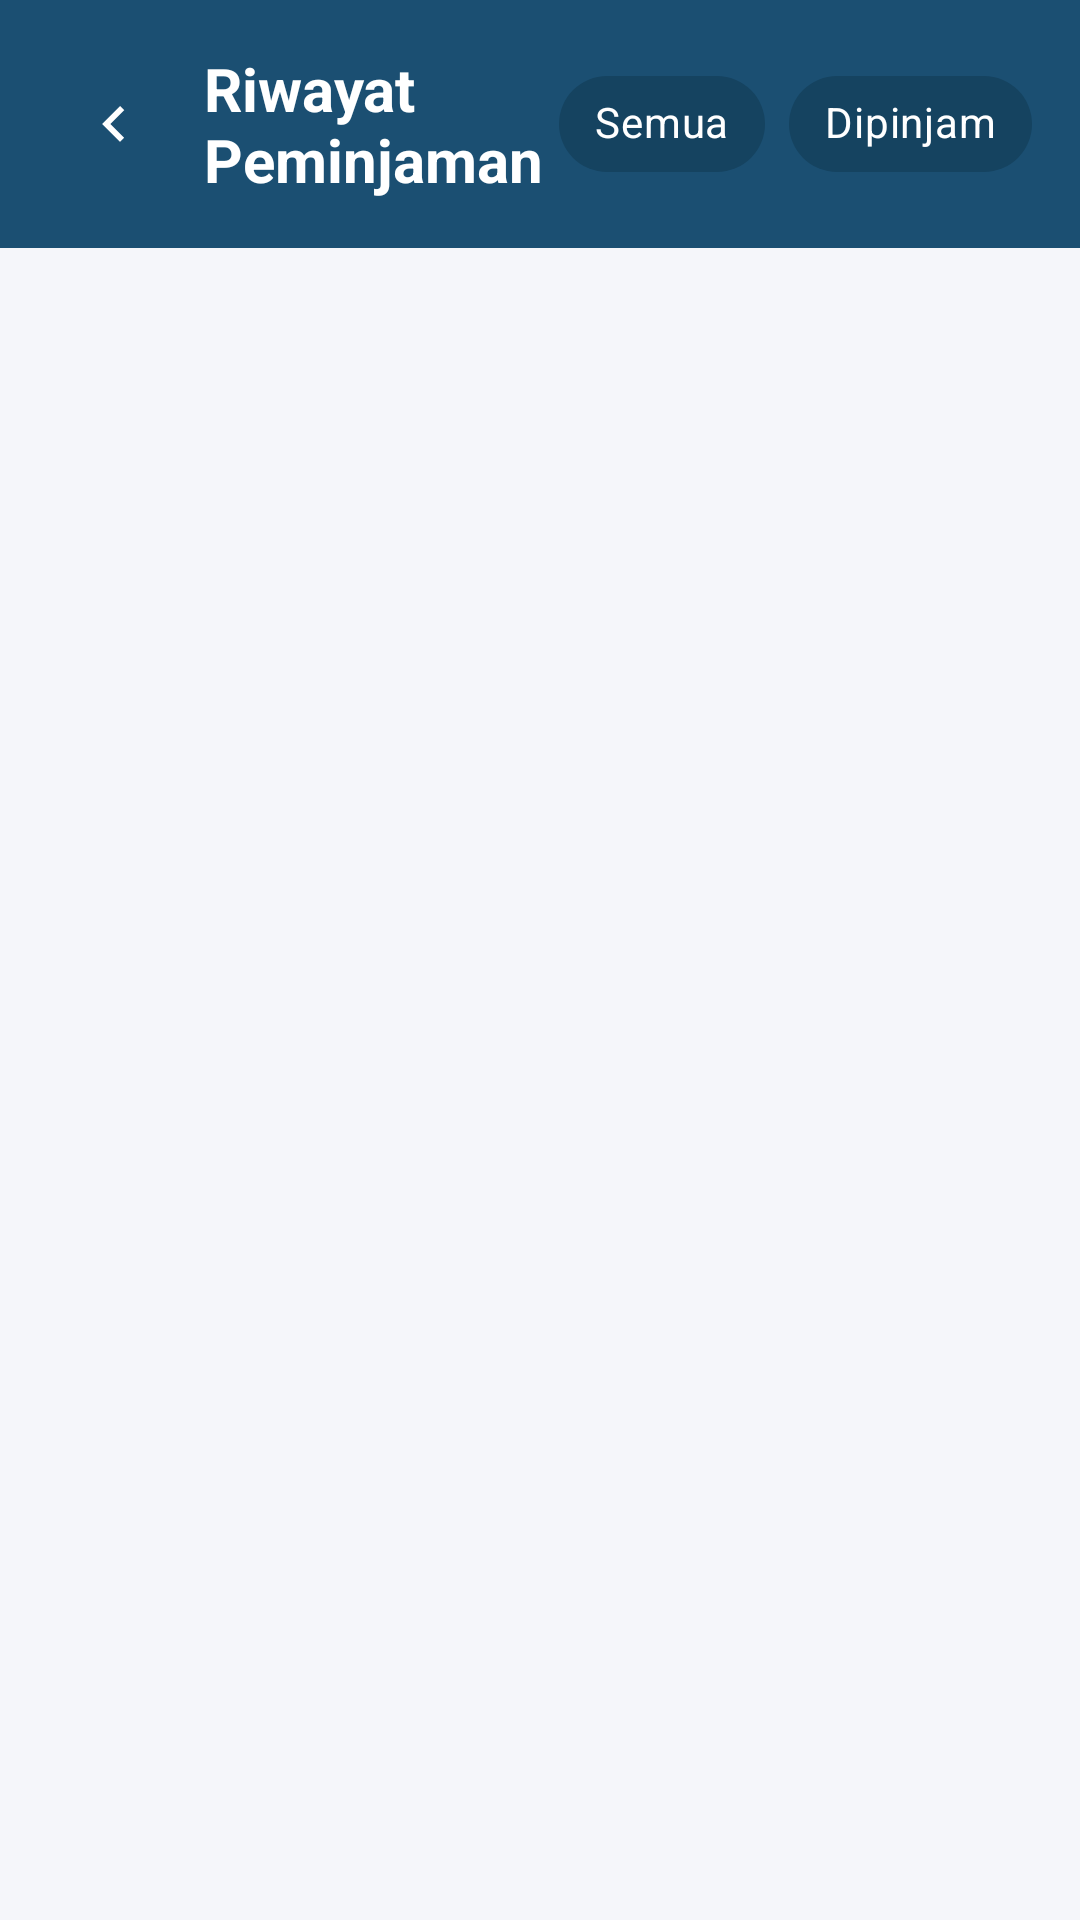

Locate icon controls on the screen. Image size 1080w x 1920h, boxes as (x1, y1, x2, y2).
Back: (102, 106, 124, 142)
